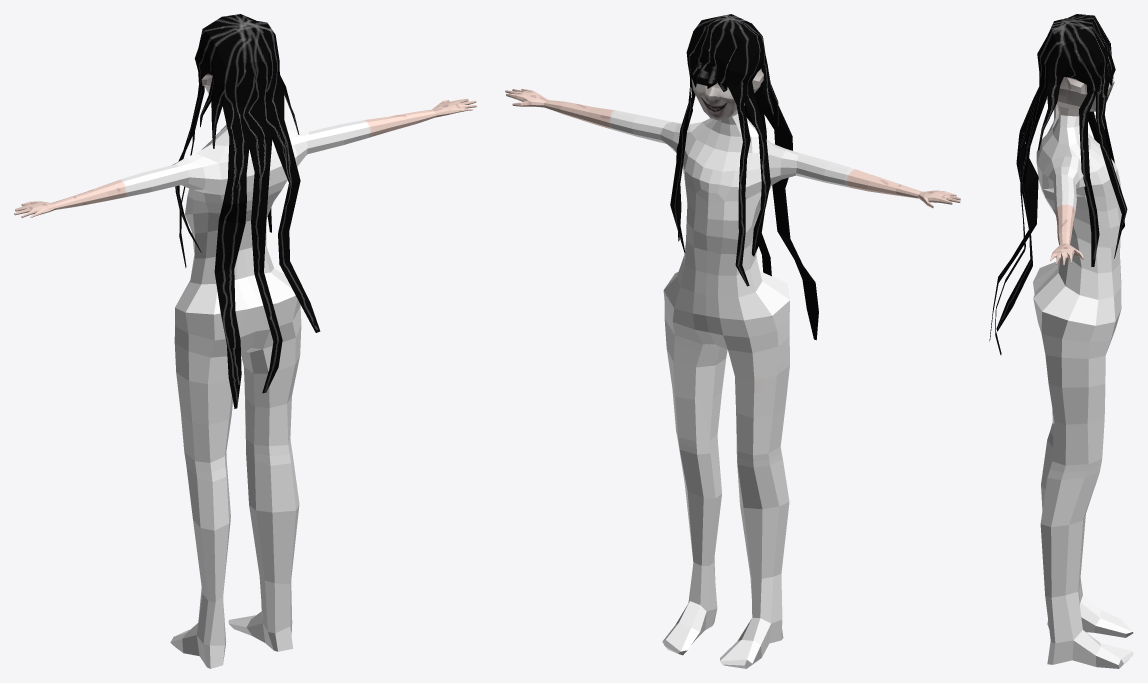
File: Maforanimatemixamo.fbx
3 views of the same model, side by side, from view 1: azimuth 30°, elevation 25°; view 2: azimuth 150°, elevation 25°; view 3: azimuth 270°, elevation 25° (orthographic).
Visible parts, largest first — view 1: body, hair; view 2: body, hair; view 3: body, hair.
Boxes of the visible parts, left/top/right/bottom form: body: left=14, top=73, right=476, bottom=668; hair: left=175, top=14, right=320, bottom=408; body: left=505, top=68, right=960, bottom=668; hair: left=670, top=14, right=818, bottom=340; body: left=1033, top=77, right=1133, bottom=668; hair: left=989, top=14, right=1127, bottom=354.
Bounding box in the file's own units: 167 × 219 × 45.37.
